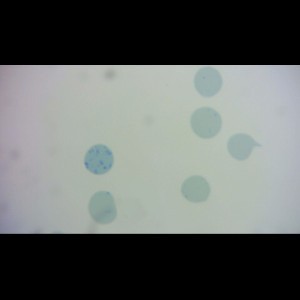aggregate reticulocyte: (83, 144, 115, 176)
erythrocyte: (226, 132, 263, 162)
punctate reticulocyte: (87, 190, 118, 225), (190, 107, 223, 139), (193, 66, 224, 98), (180, 175, 211, 203)
